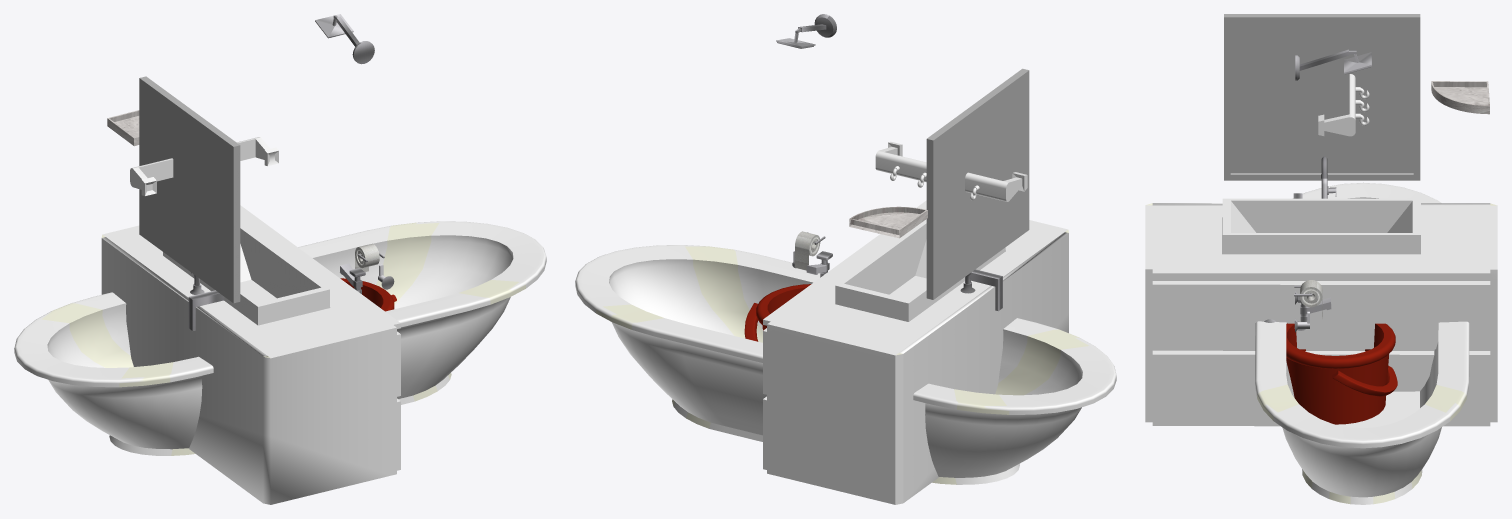
The model's file is BathroomFull.glb.
The picture shows the model from 3 angles, left to right: view 1: azimuth 30°, elevation 25°; view 2: azimuth 150°, elevation 25°; view 3: azimuth 270°, elevation 25°; orthographic projection. The views are drawn at different scales.
Visible parts, largest first — view 1: SinkCabinet, Bathtub, Mirror, Hanger, Shower, Toilet, Sidetray, pCube139; view 2: SinkCabinet, Bathtub, Mirror, Hanger, Sidetray, Toilet, Shower, pCube139; view 3: SinkCabinet, Mirror, Bathtub, pCube139, Sidetray, Shower, Hanger, Toilet.
Part boxes in pixels (box(x1,y1,x2,y2)): SinkCabinet: box(101, 205, 400, 504); Bathtub: box(14, 221, 546, 455); Mirror: box(139, 76, 240, 303); Hanger: box(130, 137, 278, 195); Shower: box(315, 14, 394, 293); Toilet: box(188, 243, 384, 330); Sidetray: box(107, 110, 139, 146); pCube139: box(340, 278, 396, 311); SinkCabinet: box(763, 200, 1068, 504); Bathtub: box(575, 245, 1116, 484); Mirror: box(926, 68, 1029, 299); Hanger: box(875, 141, 1027, 201); Sidetray: box(849, 206, 927, 238); Toilet: box(794, 231, 1002, 311); Shower: box(776, 14, 836, 277); pCube139: box(744, 284, 811, 341); SinkCabinet: box(1145, 156, 1497, 426); Mirror: box(1224, 14, 1420, 180); Bathtub: box(1255, 182, 1469, 504); pCube139: box(1286, 323, 1397, 424); Sidetray: box(1431, 81, 1489, 114); Shower: box(1294, 49, 1371, 332); Hanger: box(1318, 74, 1369, 136); Toilet: box(1293, 193, 1364, 350).
Bounding box in the file's own units: 30.57 × 21.8 × 17.52.
Materials: 19 (18 with a texture image).
